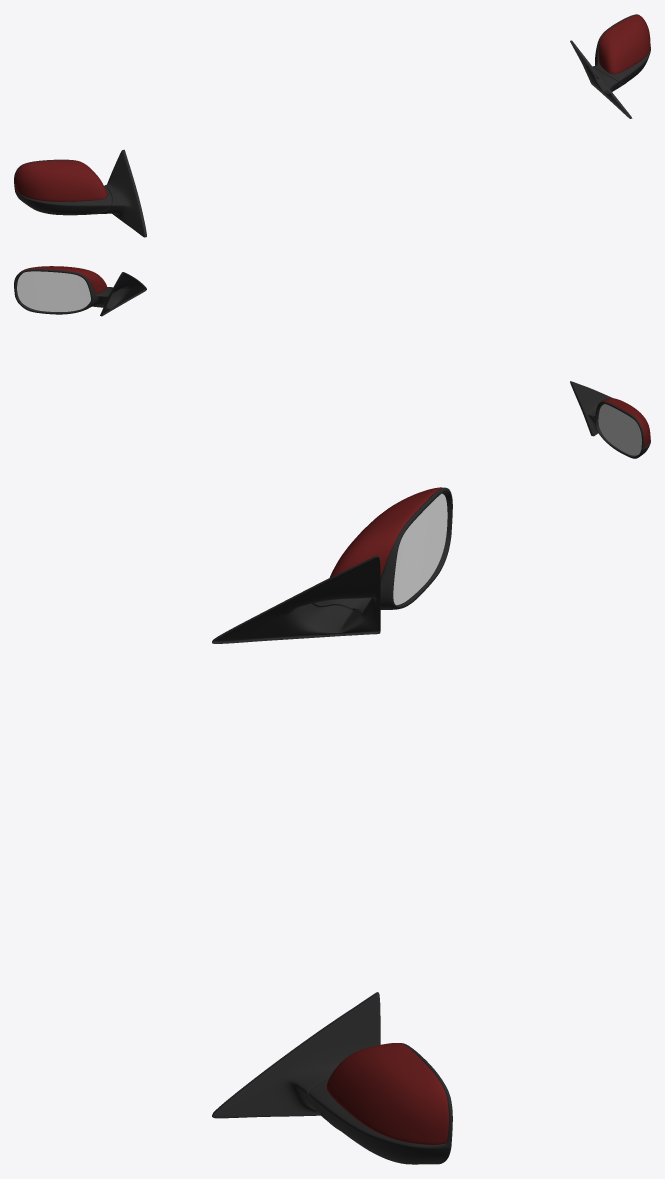
File: SideMirrors.fbx
The picture shows the model from 3 angles, top to bottom: view 1: azimuth 30°, elevation 25°; view 2: azimuth 150°, elevation 25°; view 3: azimuth 270°, elevation 25°; orthographic projection. The views are drawn at different scales.
Parts seen in each view (by area): view 1: Side mirrors; view 2: Side mirrors; view 3: Side mirrors.
Part boxes in pixels (left/top/right/bottom): Side mirrors: left=14, top=14, right=650, bottom=237; Side mirrors: left=14, top=266, right=650, bottom=458; Side mirrors: left=212, top=487, right=452, bottom=1164.
Size of the model in its own units: 2538 by 203 by 420.
